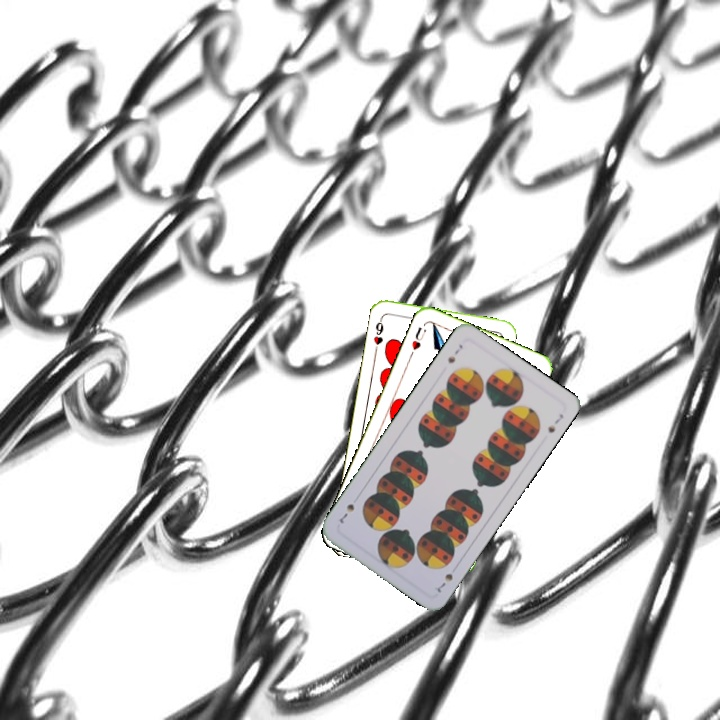H9: (369, 313, 386, 354)
HU: (406, 323, 429, 359)
S7: (433, 569, 456, 595), (444, 340, 465, 366)
